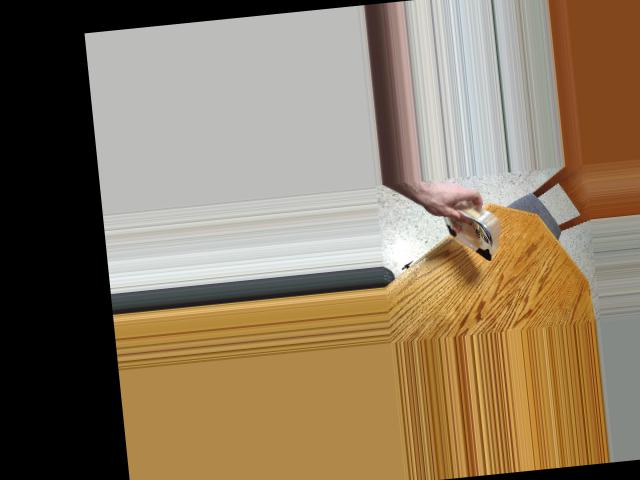cheese: (425, 199, 513, 266)
